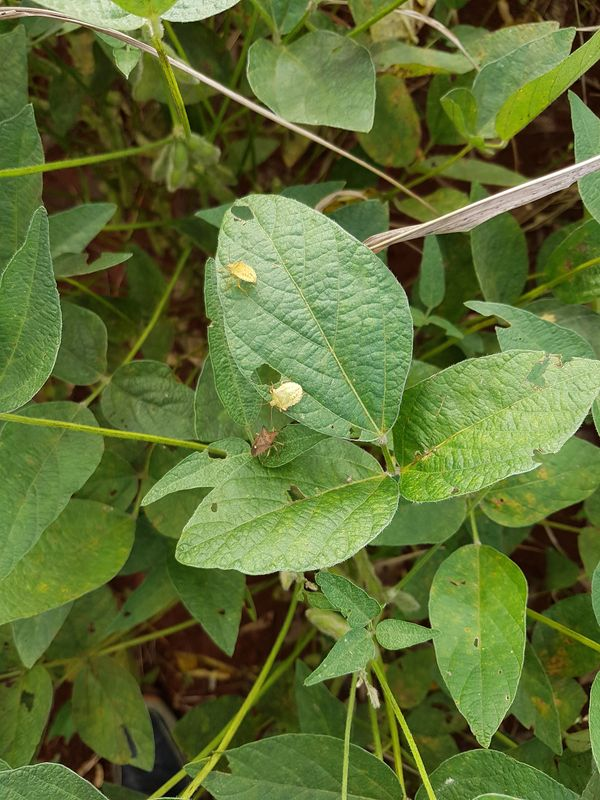Euschistus_heros_adulto: (238, 422, 291, 464)
Euschistus_heros_ninfa: (258, 372, 316, 420), (213, 251, 266, 296)
